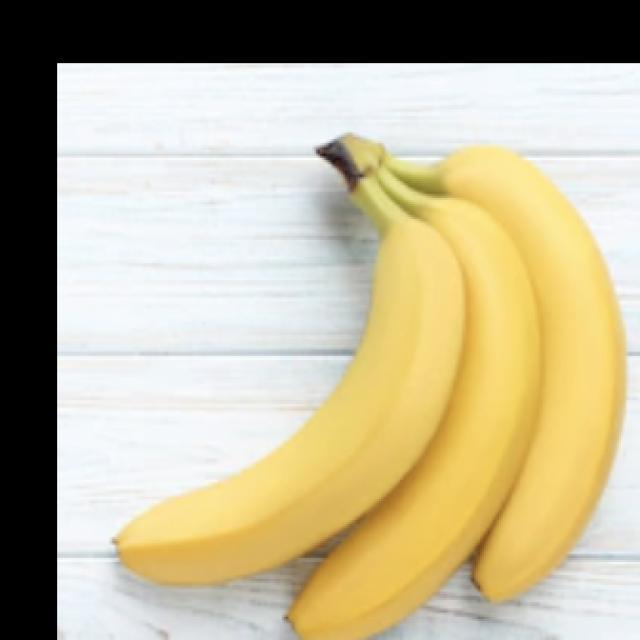Banana: (111, 131, 627, 639)
